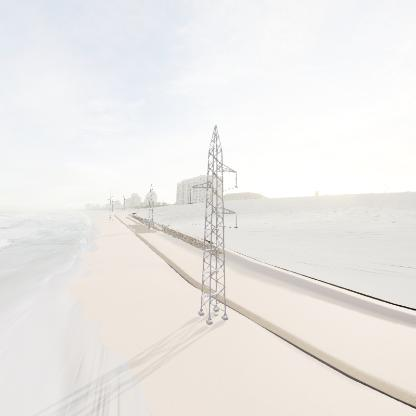tower: (181, 122, 240, 325)
